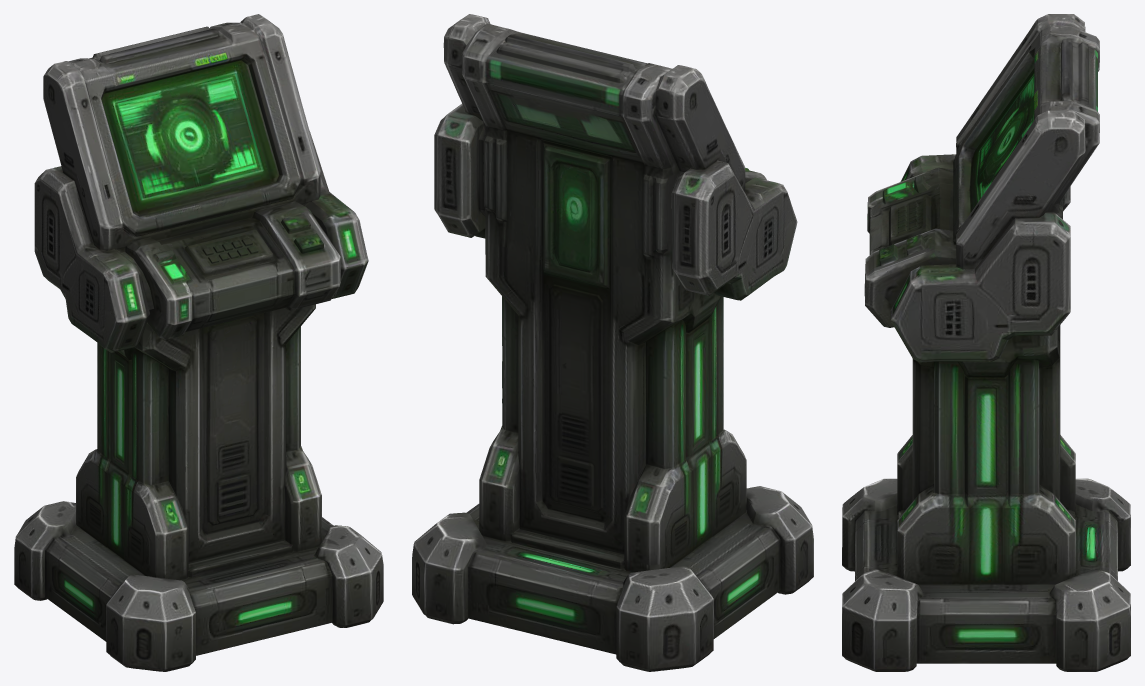
The model's file is halo-terminal.glb.
3 views of the same model, side by side, from view 1: azimuth 30°, elevation 25°; view 2: azimuth 150°, elevation 25°; view 3: azimuth 270°, elevation 25° (orthographic). The views are drawn at different scales.
Visible parts, largest first — view 1: material; view 2: material; view 3: material.
Boxes of the visible parts, <box> form: material: <box>14,14,383,671</box>; material: <box>412,14,813,671</box>; material: <box>842,14,1130,671</box>.
Size of the model in its own units: 0.5262 by 1.02 by 0.491.
1 material, 1 textured.
